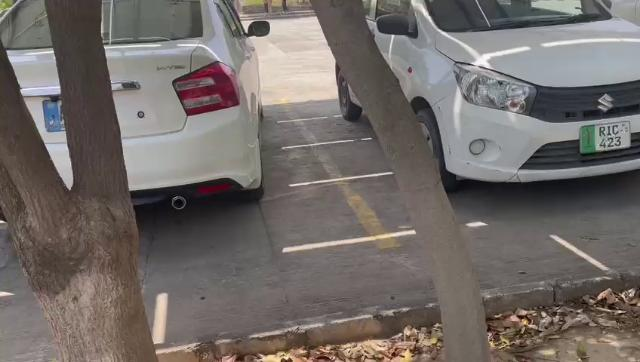plate: (578, 120, 636, 154)
